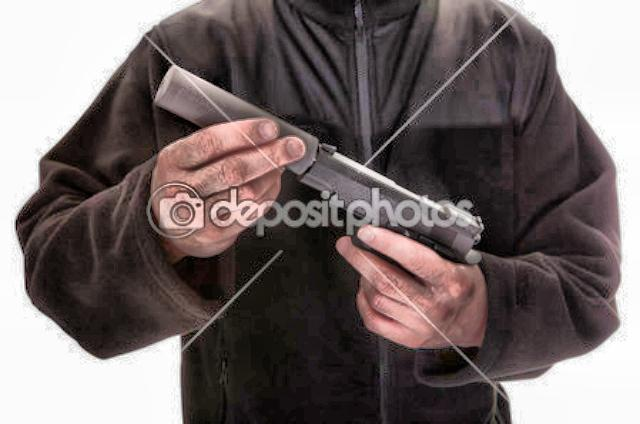pistol: (148, 58, 490, 300)
